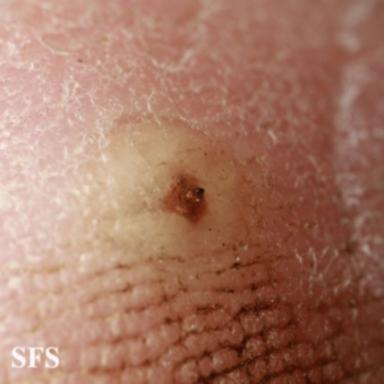Tungiasis: (105, 114, 243, 260)
